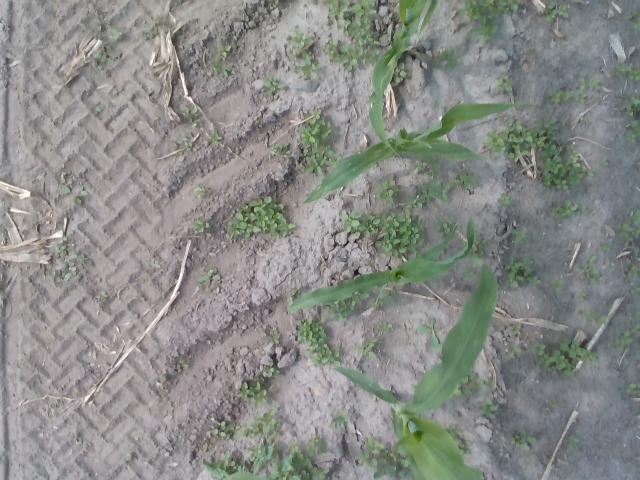Maize: (332, 256, 499, 480), (304, 103, 534, 204), (288, 216, 476, 313), (369, 0, 438, 157), (223, 471, 271, 480)
Weeds: (484, 119, 594, 191), (342, 209, 426, 256), (226, 197, 296, 239), (462, 0, 520, 41), (324, 0, 376, 45), (274, 440, 330, 480), (355, 437, 408, 478), (46, 236, 90, 282), (240, 406, 282, 439), (505, 255, 541, 288), (536, 350, 574, 377), (247, 440, 273, 475), (296, 317, 326, 347), (331, 44, 363, 72), (298, 120, 331, 147), (306, 344, 341, 368), (239, 376, 267, 406), (294, 48, 320, 80), (418, 317, 442, 348), (298, 154, 334, 174), (448, 425, 470, 454), (202, 452, 226, 478), (328, 301, 357, 322), (212, 420, 240, 441), (374, 180, 398, 204), (287, 27, 313, 49), (436, 49, 459, 73), (196, 268, 219, 290), (550, 200, 578, 218), (455, 372, 480, 392), (406, 190, 432, 209), (560, 338, 586, 357), (356, 338, 378, 360), (260, 324, 282, 346), (510, 429, 534, 449), (432, 180, 452, 201), (614, 330, 633, 352), (140, 18, 160, 38), (306, 434, 324, 456), (545, 3, 568, 20), (456, 169, 478, 186), (94, 48, 122, 61), (478, 398, 497, 417), (434, 215, 452, 235), (582, 310, 607, 324), (331, 410, 350, 428), (264, 77, 284, 94), (626, 96, 640, 118), (512, 227, 530, 244), (60, 171, 72, 196), (323, 38, 339, 56), (586, 269, 604, 285), (270, 144, 290, 158), (578, 349, 598, 363), (549, 90, 570, 103), (424, 156, 442, 171), (534, 116, 556, 128), (305, 110, 321, 126), (363, 49, 379, 65), (182, 107, 198, 123), (194, 216, 209, 233), (192, 184, 210, 198), (396, 61, 408, 82), (628, 10, 640, 30), (215, 44, 231, 58), (618, 222, 632, 238), (462, 268, 478, 282), (468, 252, 484, 266), (614, 63, 630, 76), (208, 59, 220, 76), (75, 186, 86, 204), (498, 78, 512, 92), (626, 264, 640, 278), (567, 435, 580, 449), (532, 343, 546, 356), (473, 237, 485, 252), (385, 287, 398, 300), (498, 193, 510, 207), (628, 381, 640, 395), (263, 366, 278, 377), (352, 293, 370, 302), (320, 144, 333, 156), (552, 278, 564, 291), (509, 342, 522, 354), (95, 14, 104, 31), (228, 461, 244, 470), (96, 292, 108, 304), (414, 160, 426, 172), (629, 68, 640, 81), (590, 77, 601, 90), (631, 210, 640, 225), (480, 378, 492, 389), (633, 119, 640, 137), (629, 324, 640, 335), (109, 28, 121, 38), (602, 240, 612, 252), (378, 320, 388, 332), (178, 359, 190, 368), (372, 298, 384, 307), (579, 264, 589, 274), (576, 290, 586, 300), (299, 149, 311, 157), (151, 260, 161, 269), (627, 132, 636, 142), (513, 326, 522, 336), (632, 246, 640, 257), (185, 141, 194, 150), (548, 398, 558, 406), (212, 132, 220, 142), (576, 94, 586, 102), (630, 284, 640, 292), (580, 77, 586, 90), (179, 138, 191, 144), (600, 159, 609, 167), (586, 255, 596, 262), (633, 227, 640, 237), (626, 236, 634, 244), (223, 68, 230, 76), (95, 106, 102, 114), (126, 453, 133, 460), (625, 257, 631, 264), (635, 312, 640, 318)
